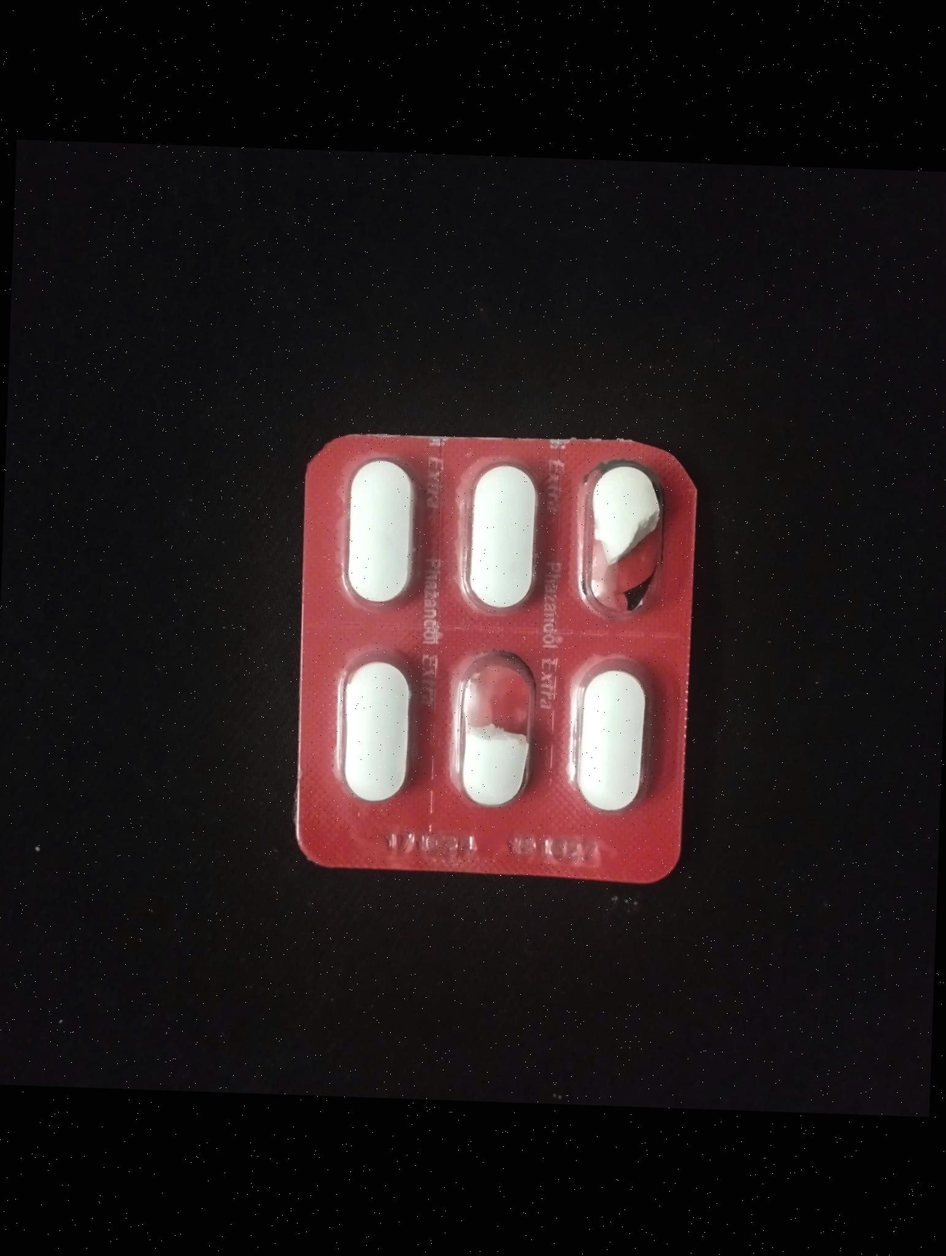Full: (565, 649, 656, 821), (340, 447, 426, 616), (334, 654, 423, 814), (462, 457, 542, 618)
Partial: (452, 643, 543, 821), (577, 451, 664, 618)
